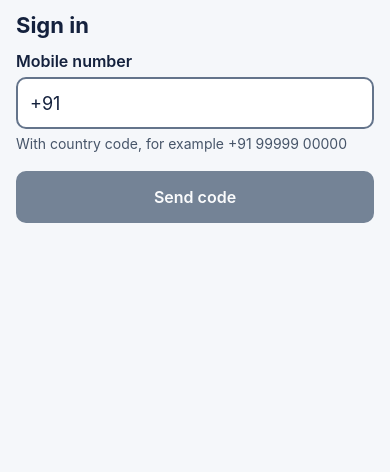
it: sign-in › phone -> code -> verify signs in with device info, tokens come from the API; simulator helper fills the code
Later steps or results of the test are not shown.
Replace the text in the field with test id "input-phone" with "+91 99999 01202" at (195, 103), box top-left (16, 77), bottom-right (374, 129)
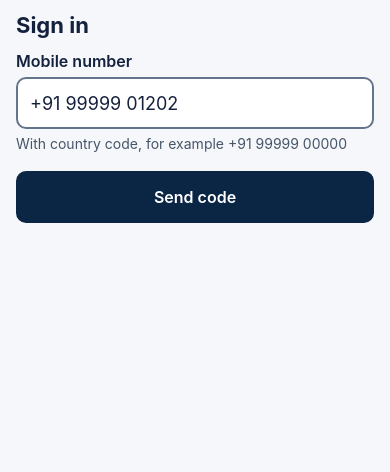
Click the button "Send code".
click(195, 197)  # box top-left (16, 171), bottom-right (374, 223)
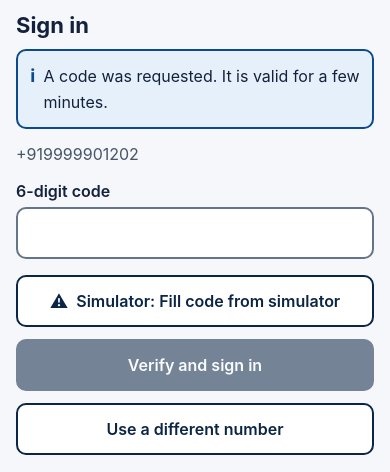
Expected: the field with test id "input-code" is shown, top-left (16, 207), bottom-right (374, 259)
Click the button "⚠ Simulator: Fill code from simulator".
click(195, 301)  # box top-left (16, 275), bottom-right (374, 327)
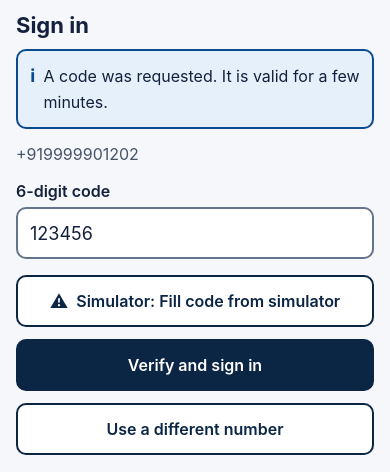
Expected: the field with test id "input-code" holds "123456", top-left (16, 207), bottom-right (374, 259)
